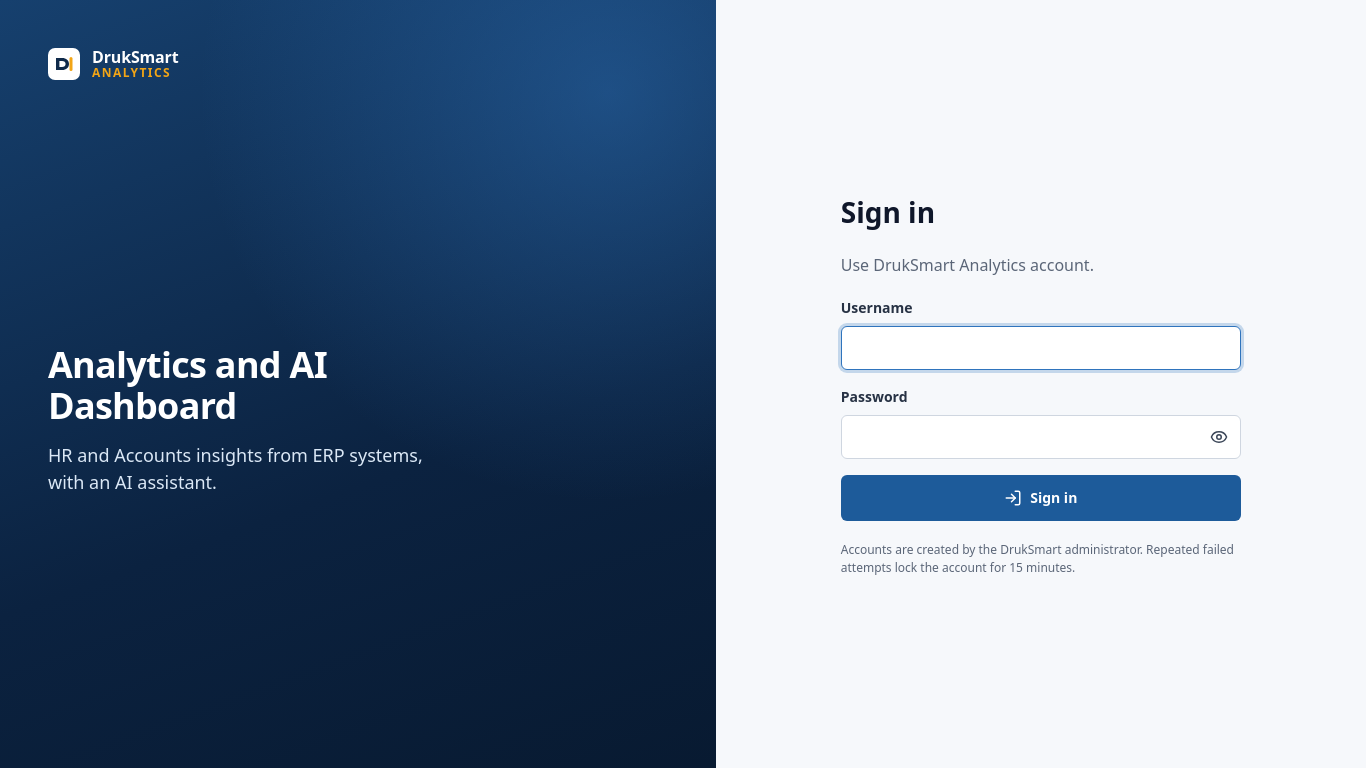
Scenario: sign-in form › signs in through the JSON API with the CSRF token and opens the requested page
In the field labelled "Username": (1041, 348) [841, 326, 1241, 370], type "demo_accounts"
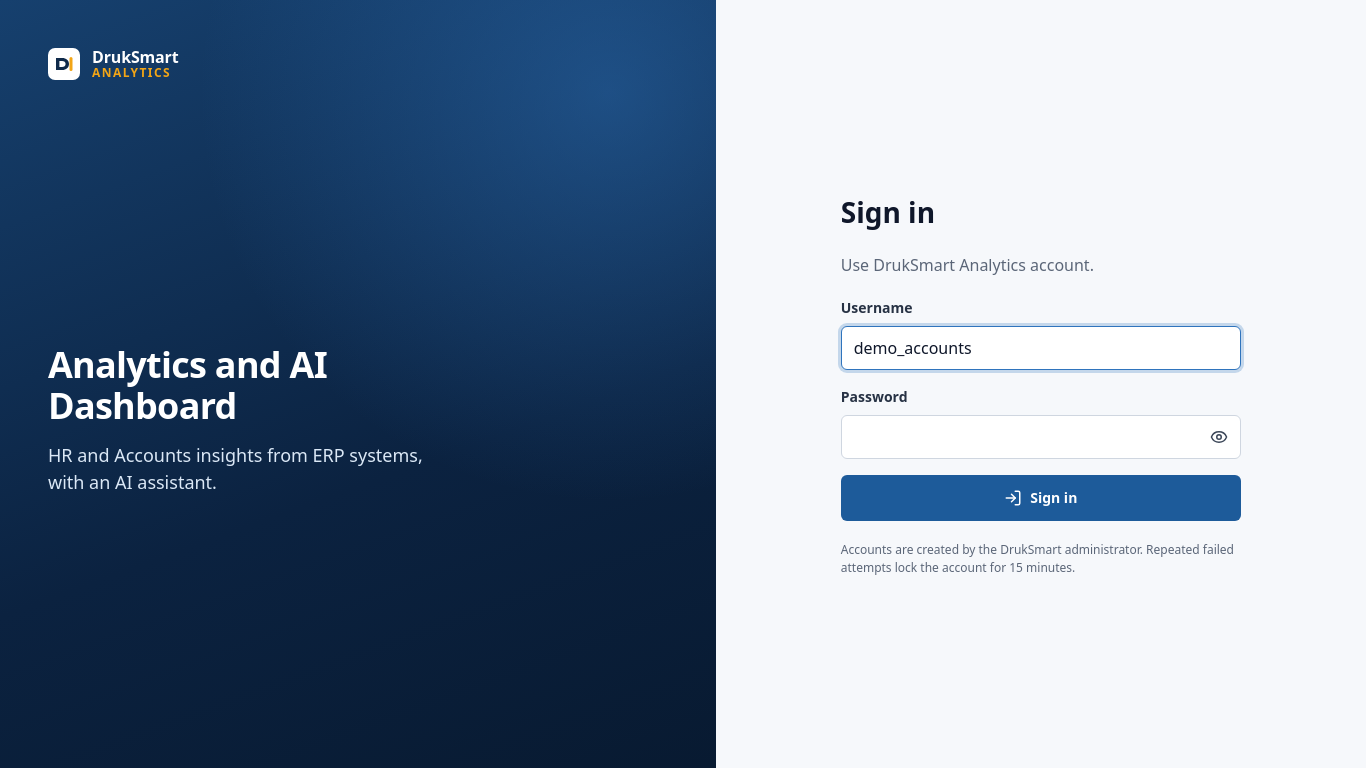
In the password field labelled "Password": (1041, 437) [841, 415, 1241, 459], type "correct-horse"
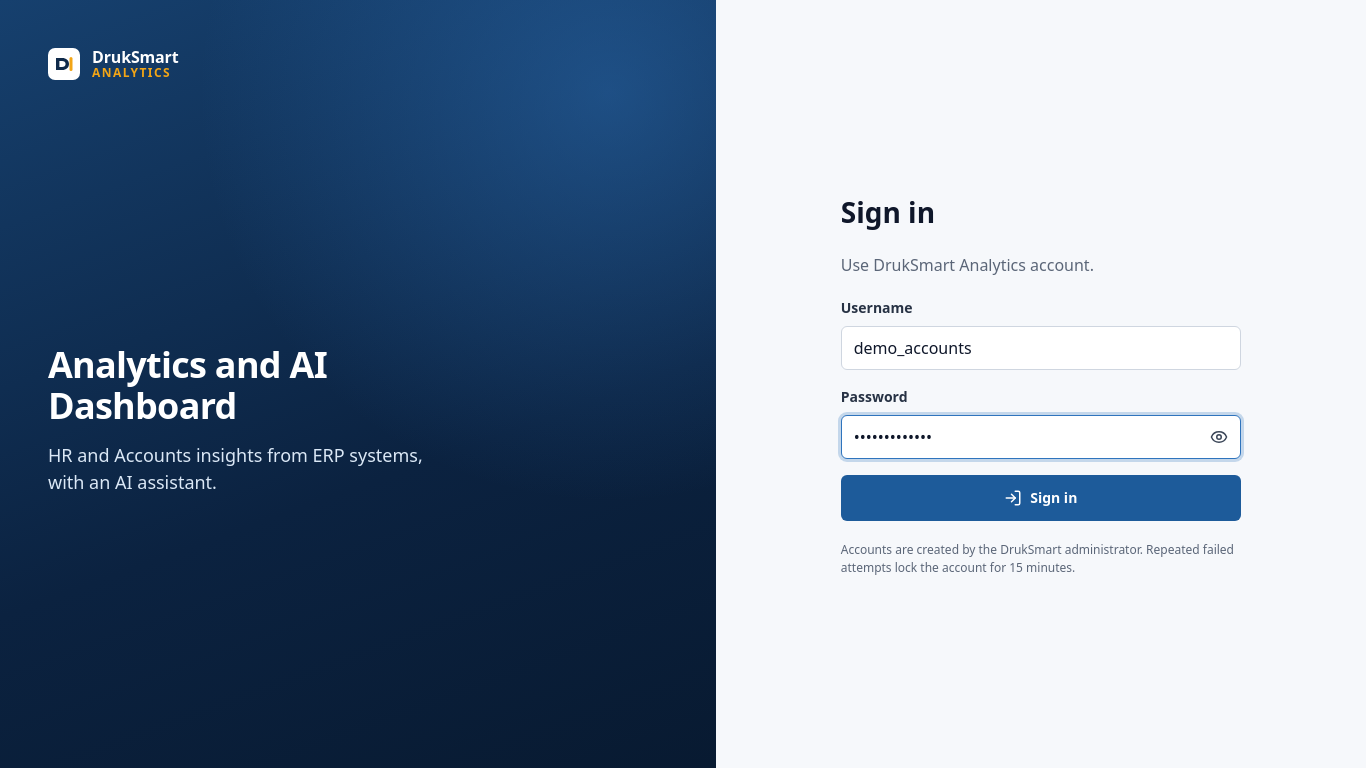
Click the button "Sign in": (1041, 498) [841, 475, 1241, 521]
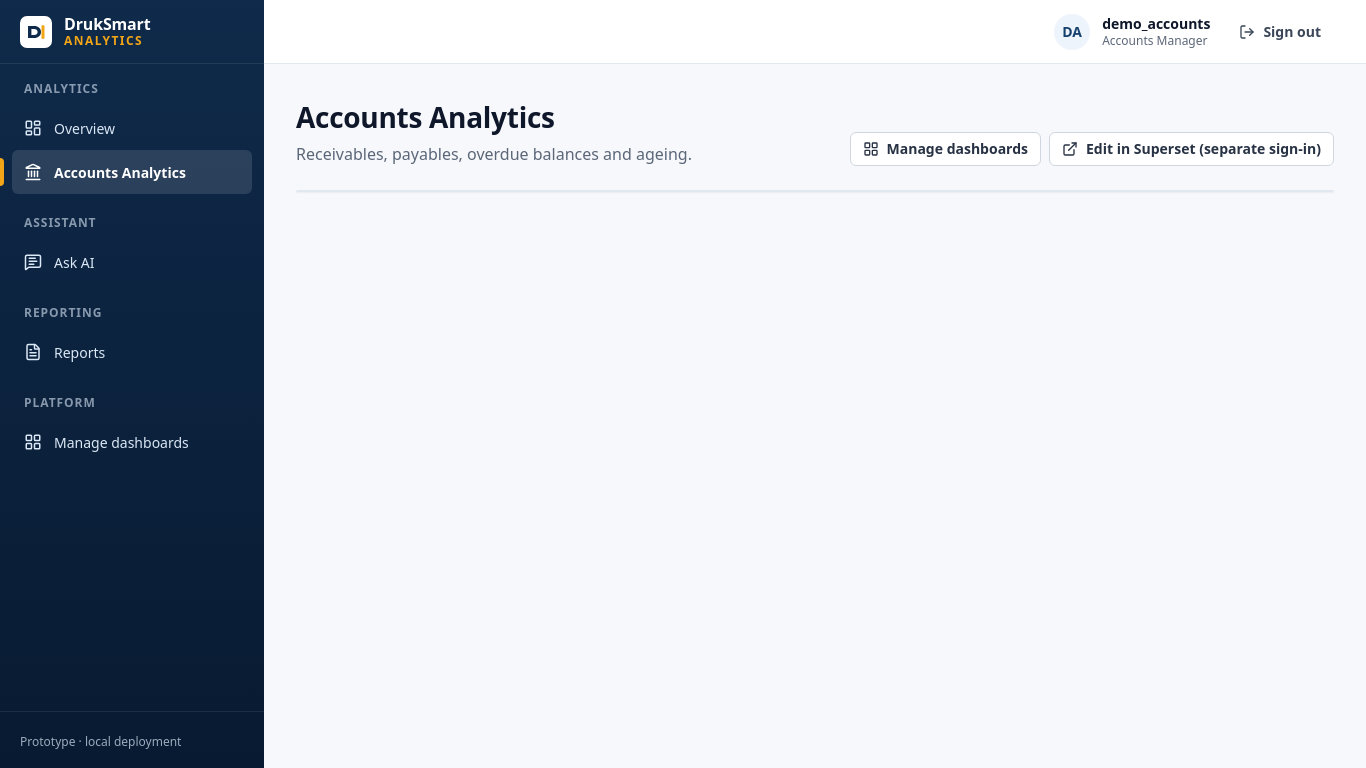
Now the heading "Accounts Analytics" is shown, box [296, 98, 555, 136]
